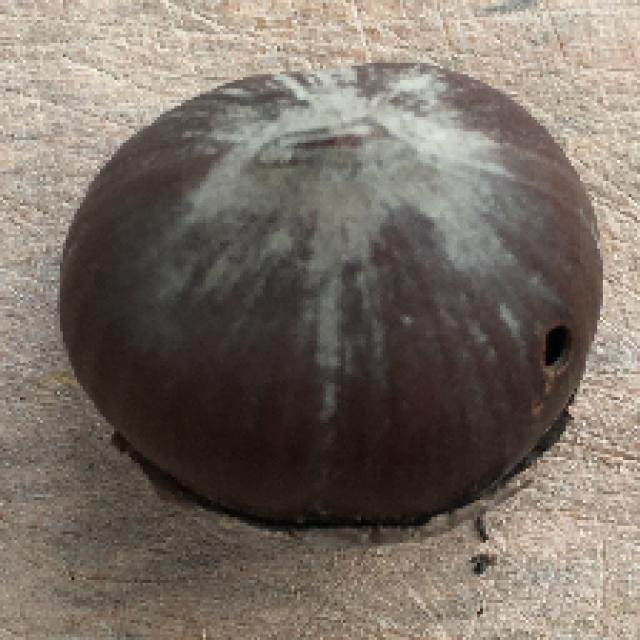damagedHazelnut: (53, 60, 614, 532)
